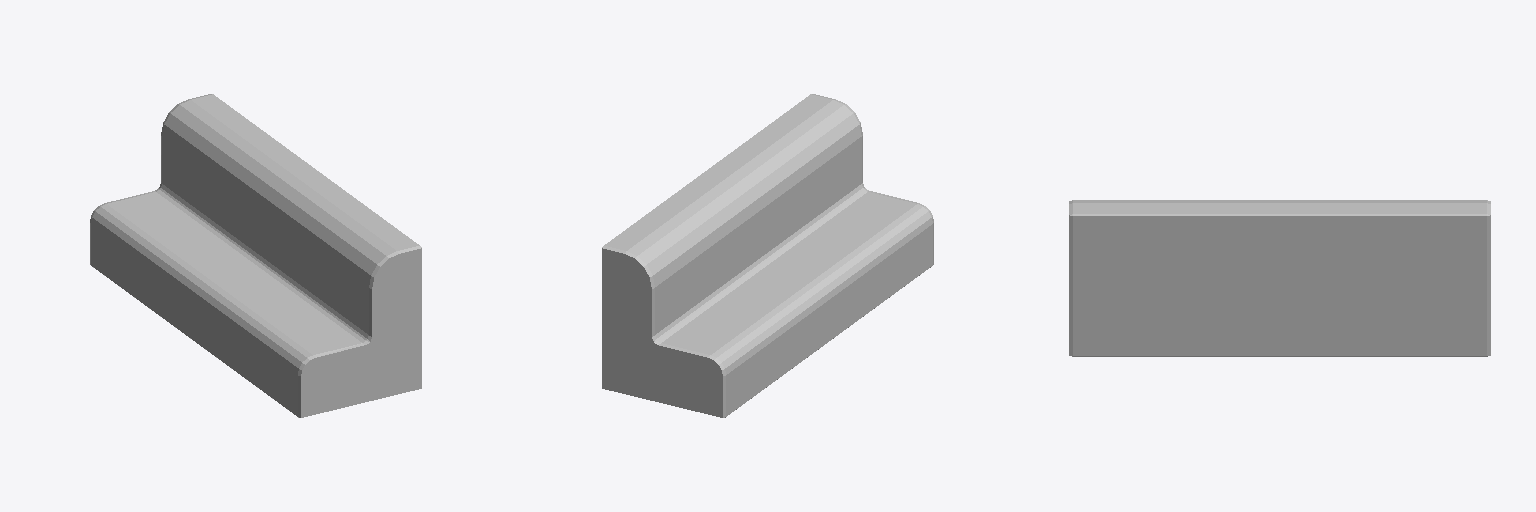
The model's file is seat_1.obj.
3 renders of one model, left to right at view 1: azimuth 30°, elevation 25°; view 2: azimuth 150°, elevation 25°; view 3: azimuth 270°, elevation 25°, orthographic.
Visible parts, largest first — view 1: Cadeira1_Cube.023; view 2: Cadeira1_Cube.023; view 3: Cadeira1_Cube.023.
Part boxes in pixels (left/top/right/bottom): Cadeira1_Cube.023: left=90, top=94, right=421, bottom=417; Cadeira1_Cube.023: left=602, top=94, right=933, bottom=417; Cadeira1_Cube.023: left=1069, top=200, right=1490, bottom=356.
Size of the model in its own units: 1.09 by 1.2 by 3.23.